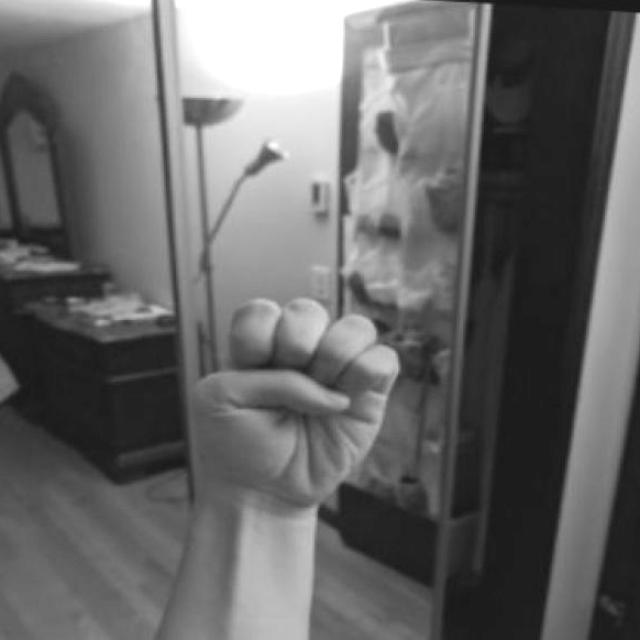E: (170, 276, 415, 541)
